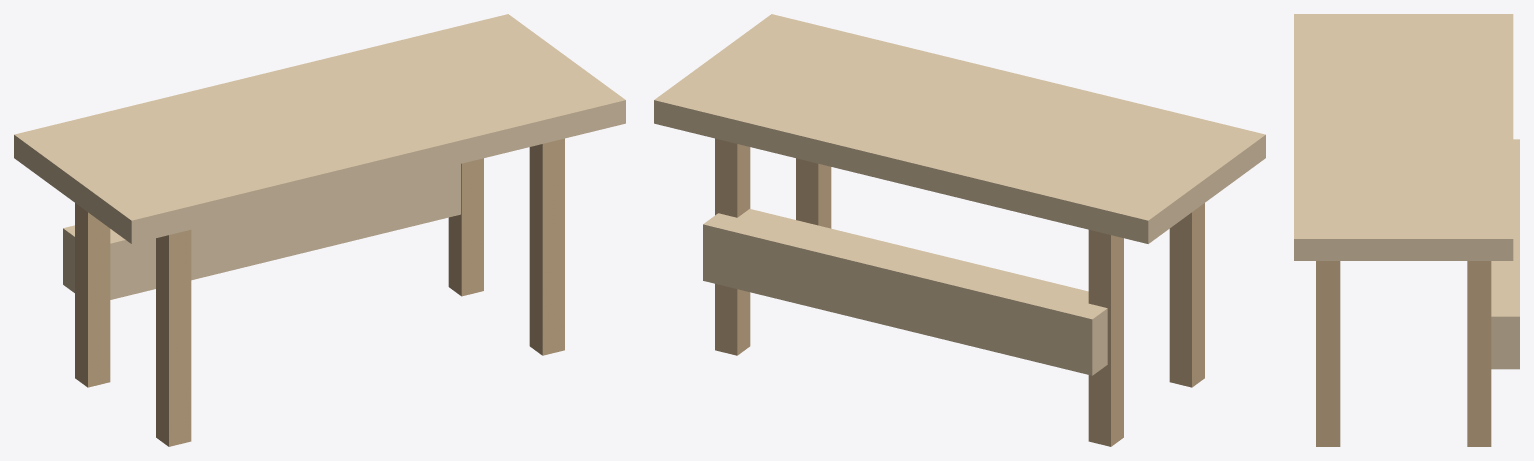
File: desk.glb
3 renders of one model, left to right at view 1: azimuth 30°, elevation 25°; view 2: azimuth 150°, elevation 25°; view 3: azimuth 270°, elevation 25°, orthographic. The views are drawn at different scales.
Parts seen in each view (by area): view 1: desk_oak_light_0, desk_oak_light_5, desk_oak_2, desk_oak_4, desk_oak_1, desk_oak_3; view 2: desk_oak_light_0, desk_oak_light_5, desk_oak_1, desk_oak_2, desk_oak_3, desk_oak_4; view 3: desk_oak_light_0, desk_oak_3, desk_oak_4, desk_oak_light_5.
Boxes of the visible parts, x1,y1,x2,y2 form: desk_oak_light_0: [14, 14, 625, 243]; desk_oak_light_5: [63, 164, 460, 299]; desk_oak_2: [156, 230, 191, 446]; desk_oak_4: [529, 138, 564, 355]; desk_oak_1: [75, 203, 110, 387]; desk_oak_3: [448, 158, 483, 296]; desk_oak_light_0: [654, 14, 1265, 243]; desk_oak_light_5: [703, 209, 1107, 375]; desk_oak_1: [1088, 230, 1123, 446]; desk_oak_2: [1169, 203, 1204, 387]; desk_oak_3: [715, 138, 750, 355]; desk_oak_4: [796, 158, 831, 228]; desk_oak_light_0: [1294, 14, 1513, 260]; desk_oak_3: [1467, 261, 1491, 446]; desk_oak_4: [1316, 261, 1340, 446]; desk_oak_light_5: [1491, 139, 1519, 369].
Bounding box in the file's own units: 1.65 × 0.7875 × 0.7.
